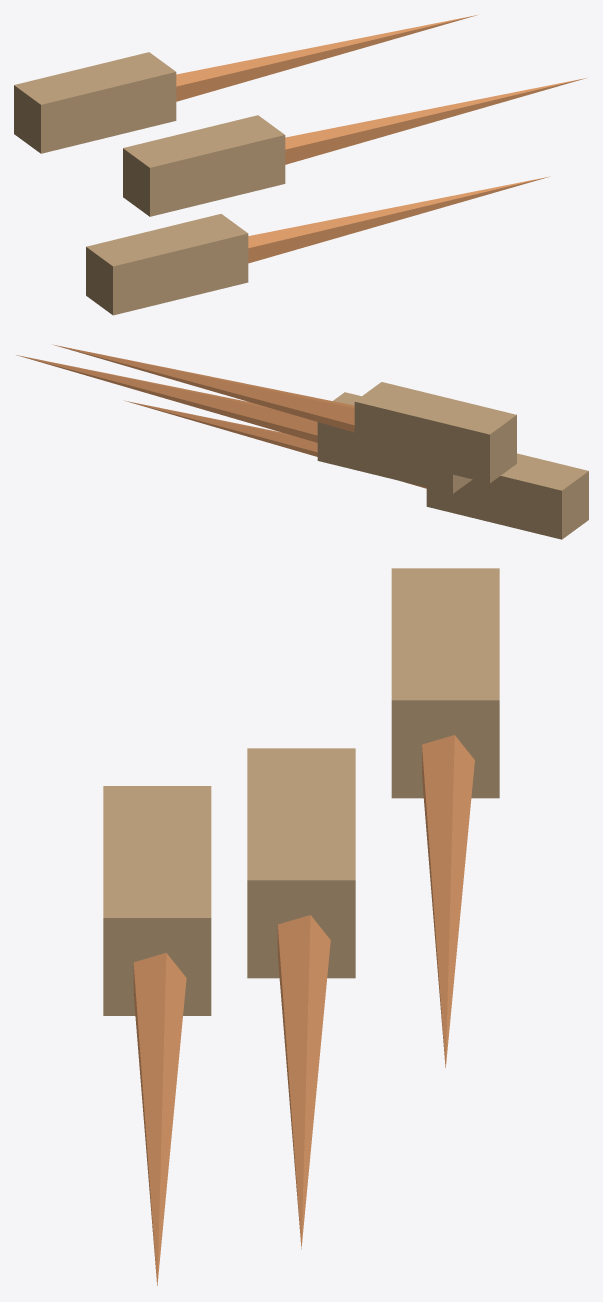
The model's file is item_080_copper_awl_m.glb.
3 views of the same model, one above another, from view 1: azimuth 30°, elevation 25°; view 2: azimuth 150°, elevation 25°; view 3: azimuth 270°, elevation 25° (orthographic). The views are drawn at different scales.
Visible parts, largest first — view 1: item_080_copper_awl_m; view 2: item_080_copper_awl_m; view 3: item_080_copper_awl_m.
Boxes of the visible parts, left/top/right/bottom form: item_080_copper_awl_m: left=14, top=14, right=587, bottom=315; item_080_copper_awl_m: left=16, top=344, right=588, bottom=539; item_080_copper_awl_m: left=103, top=568, right=499, bottom=1285.
Size of the model in its own units: 0.505 by 0.145 by 0.165.
